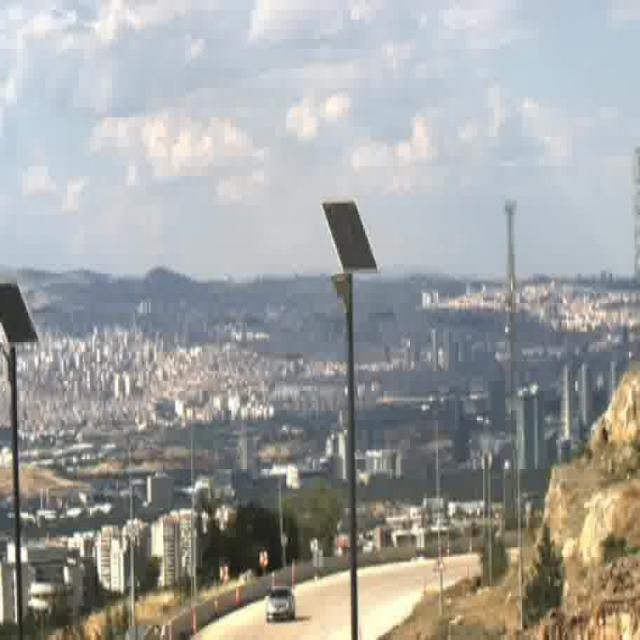Car: (266, 588, 295, 620)
